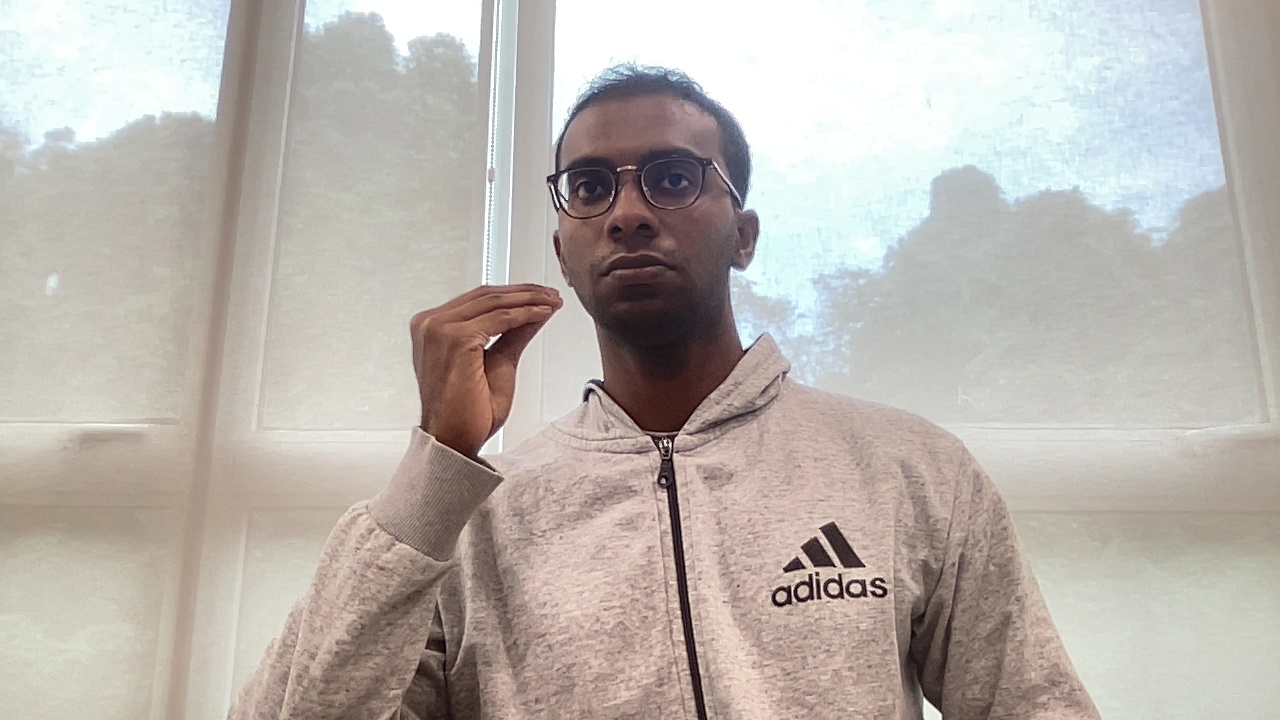eat: (406, 280, 567, 452)
